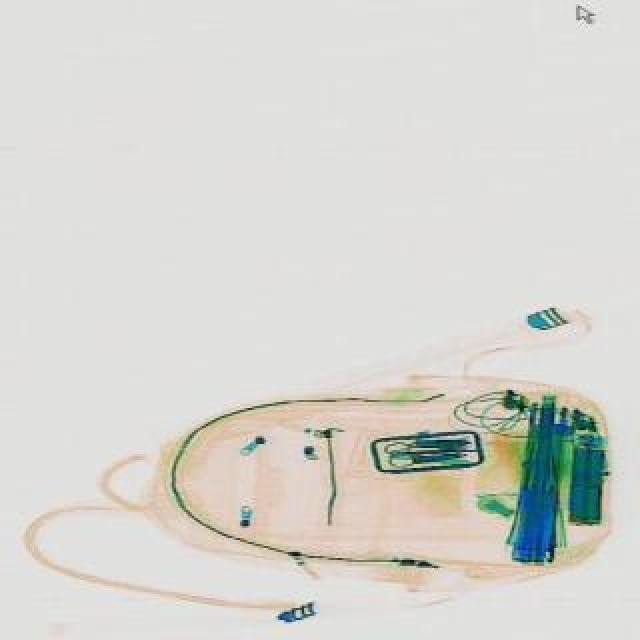pliers: (382, 436, 446, 468)
